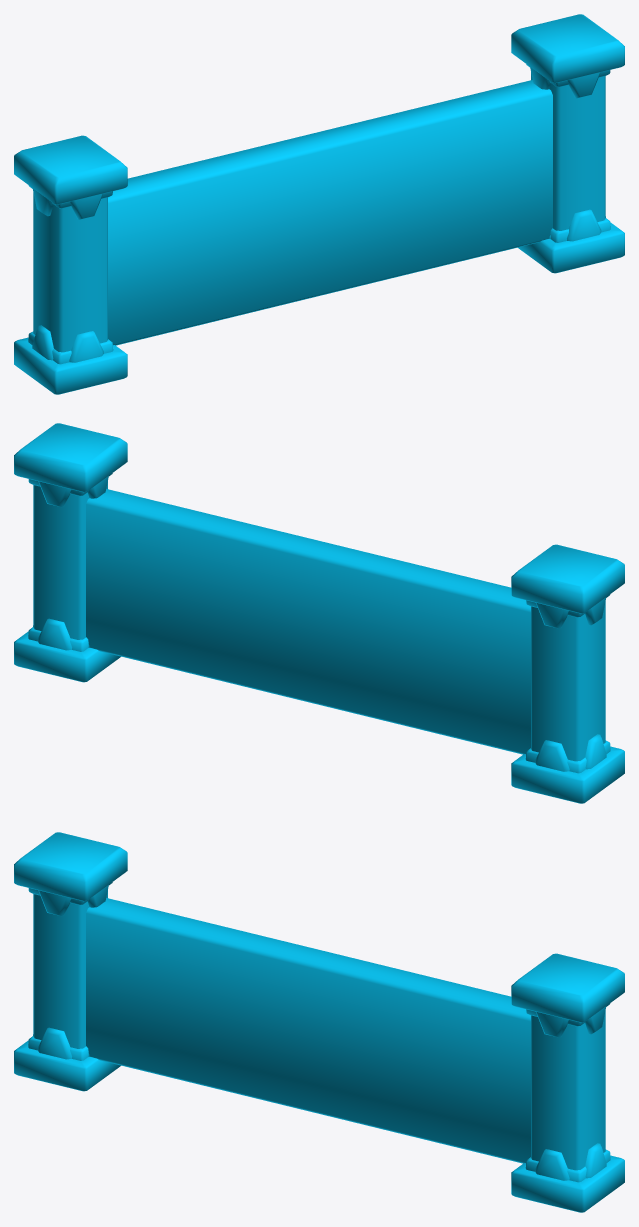
The model's file is FenceWood1.FBX.
3 renders of one model, top to bottom at view 1: azimuth 30°, elevation 25°; view 2: azimuth 150°, elevation 25°; view 3: azimuth 330°, elevation 25°, orthographic.
Visible parts, largest first — view 1: FenceWood1; view 2: FenceWood1; view 3: FenceWood1.
Boxes of the visible parts, x1=… form: FenceWood1: x1=14, y1=14, x2=624, y2=394; FenceWood1: x1=14, y1=423, x2=624, y2=803; FenceWood1: x1=14, y1=832, x2=624, y2=1212.
Bounding box in the file's own units: 3.44 × 1.24 × 0.4414.
